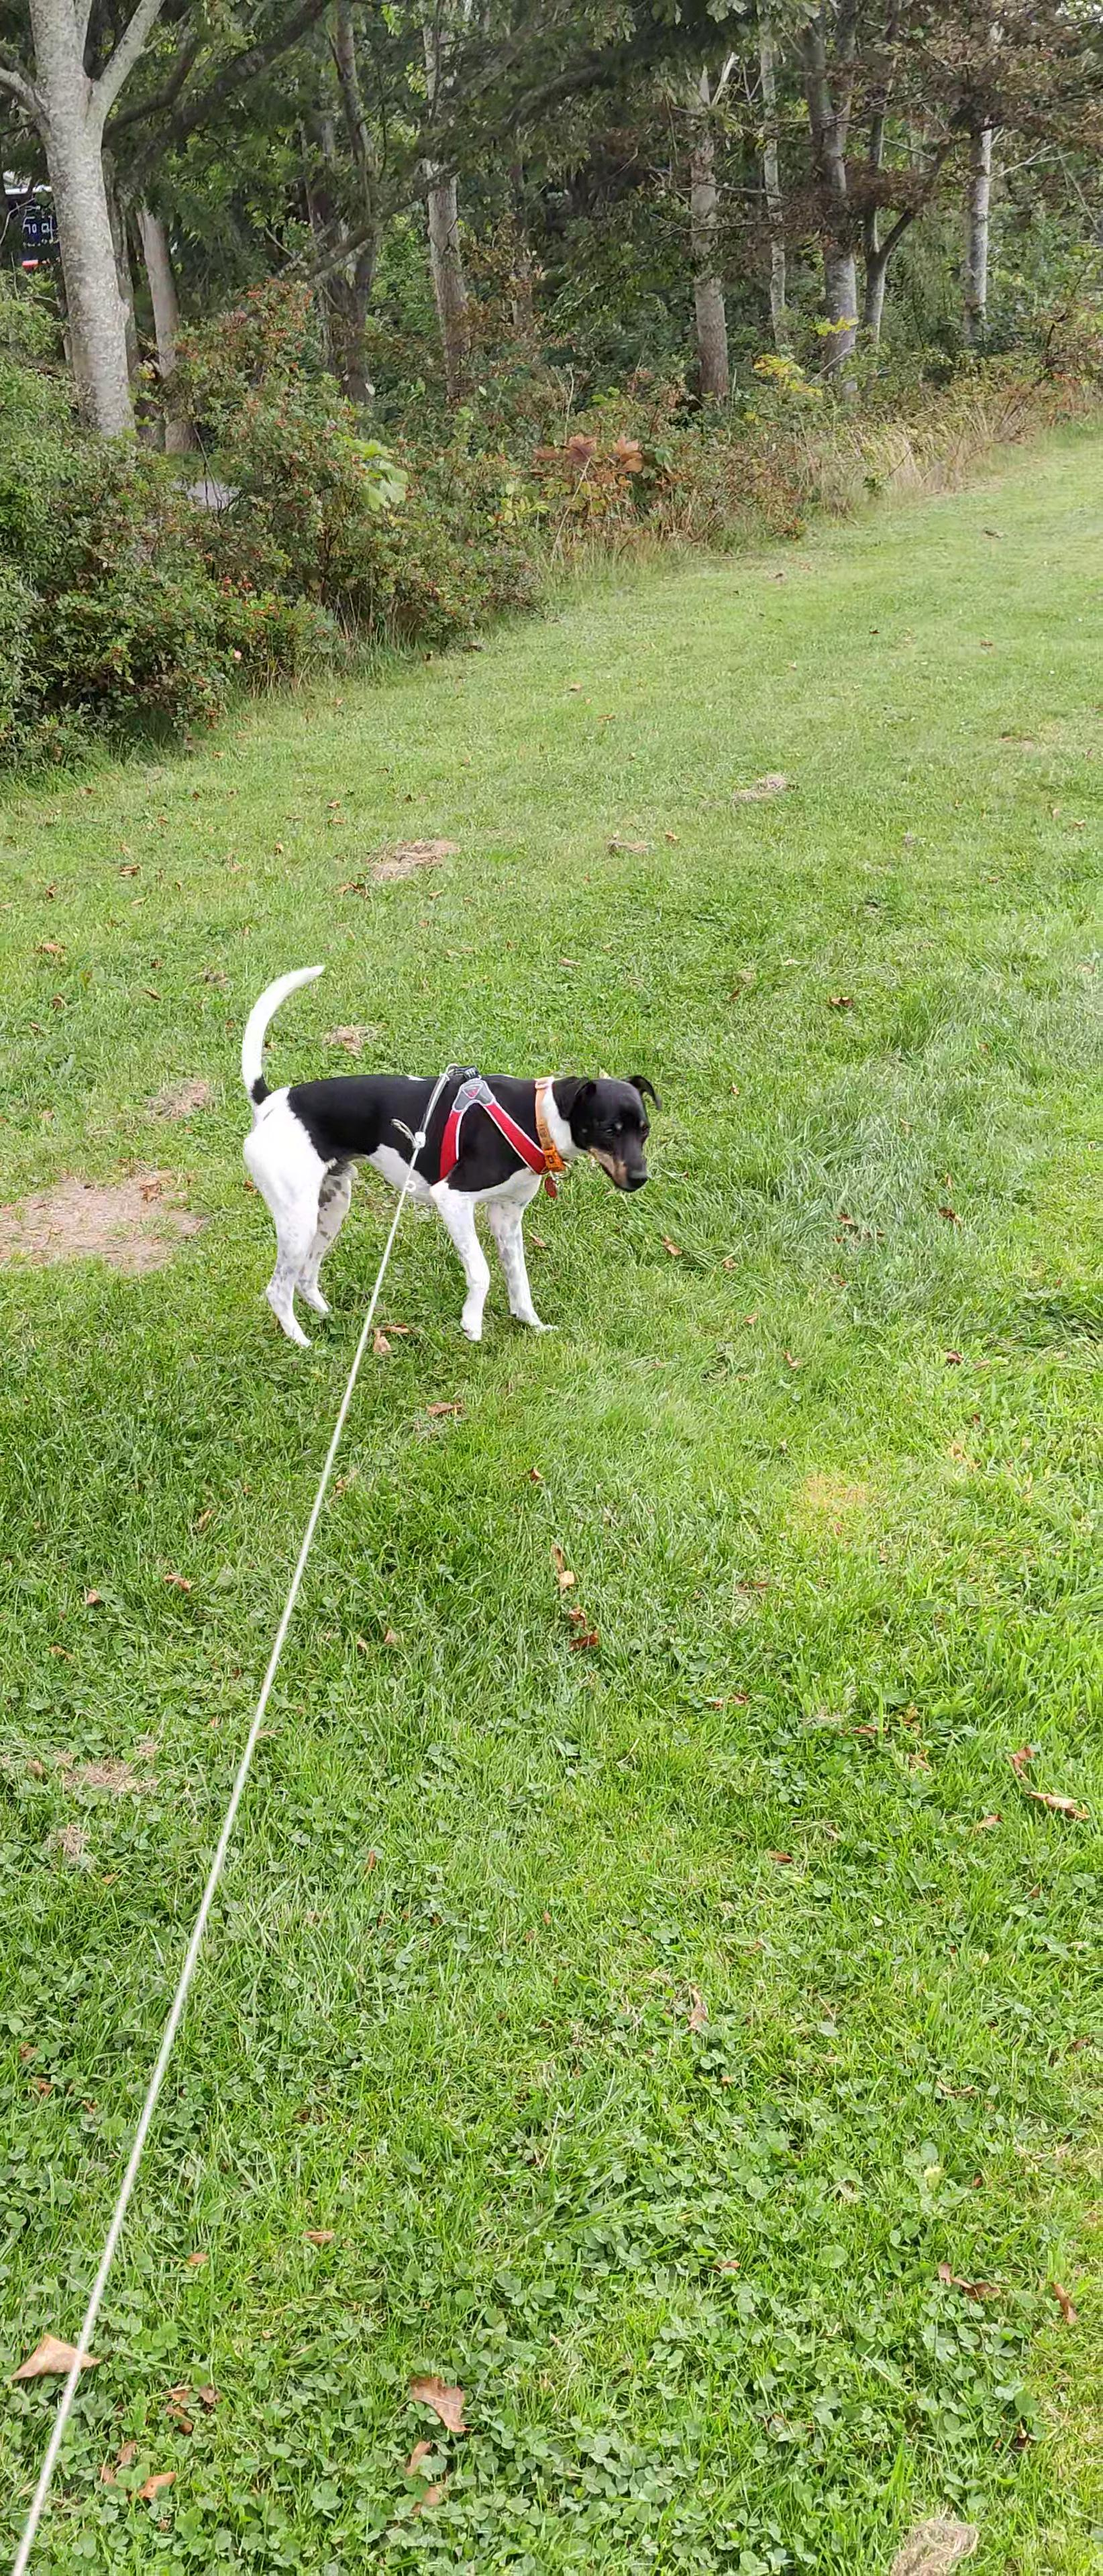Dog: (233, 951, 666, 1373)
